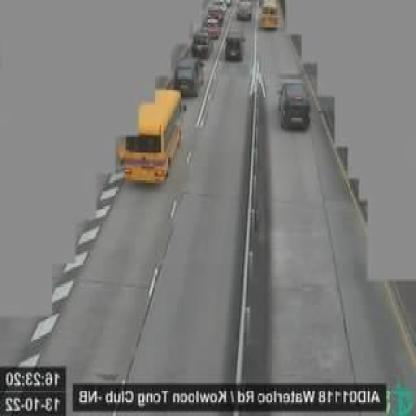Bus: (117, 90, 185, 183), (259, 0, 278, 31)
Car: (278, 80, 312, 132), (171, 55, 204, 97), (223, 31, 242, 61), (190, 31, 209, 56), (205, 16, 223, 37), (237, 0, 253, 19)
